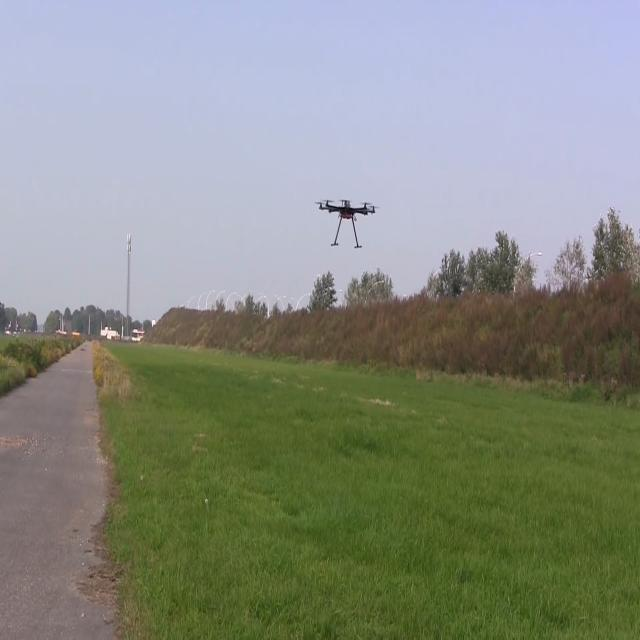drone: (314, 154, 378, 275)
